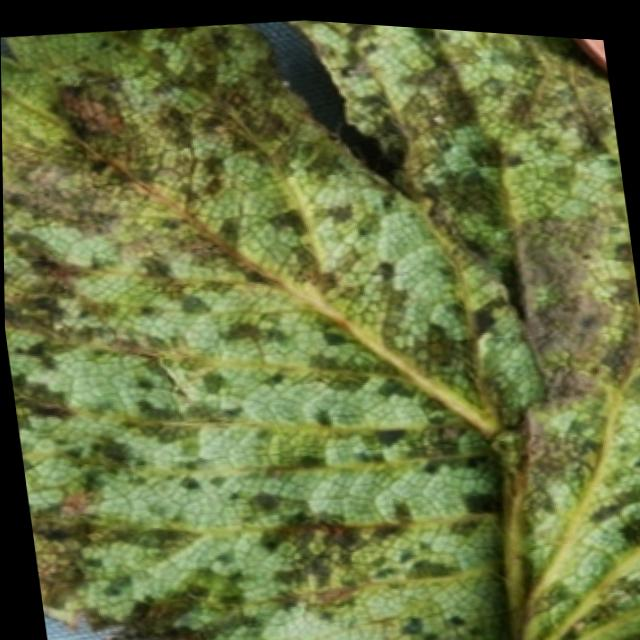Angular Leafspot: (1, 16, 640, 640)
